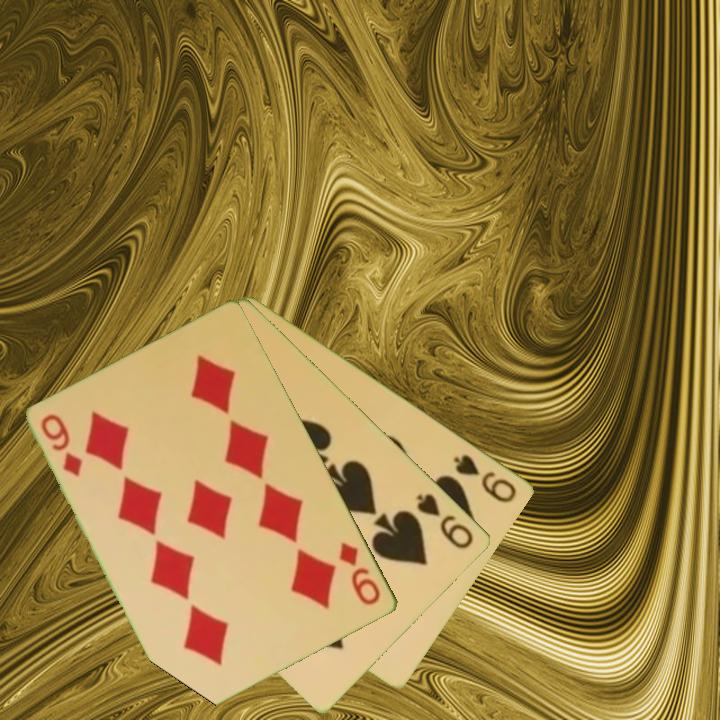9d: (38, 410, 87, 480), (336, 538, 384, 609)
9s: (413, 490, 477, 552), (450, 450, 520, 506)
